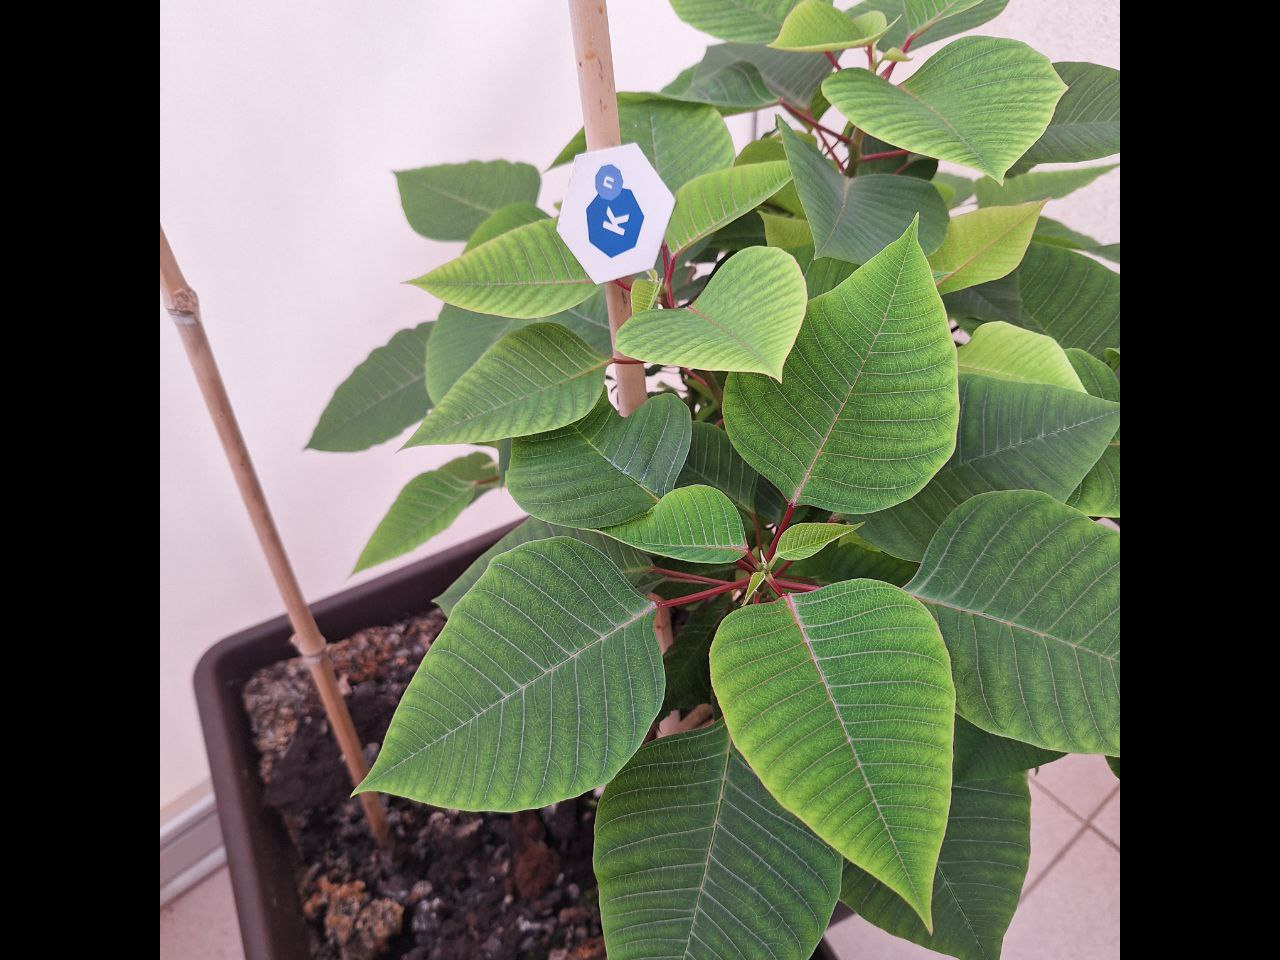knative: (586, 158, 648, 263)
